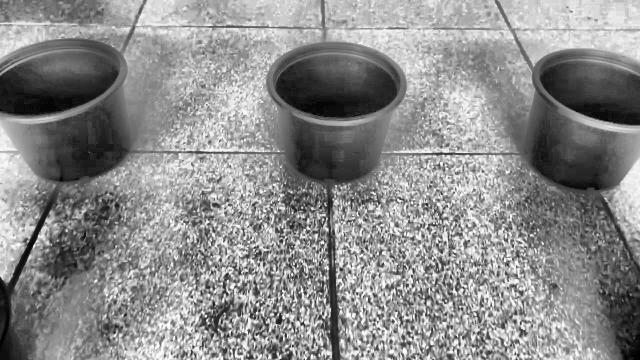pot: (266, 42, 406, 183), (0, 39, 132, 183), (522, 48, 640, 192)
